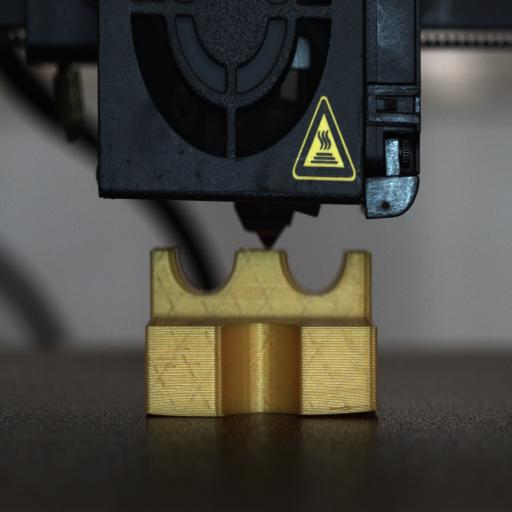warp: (330, 395, 381, 421), (143, 402, 179, 422)
